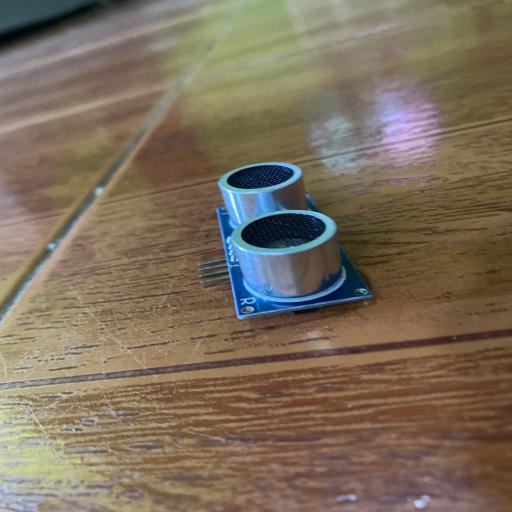Ultrasonic Sensor: (197, 162, 376, 320)
